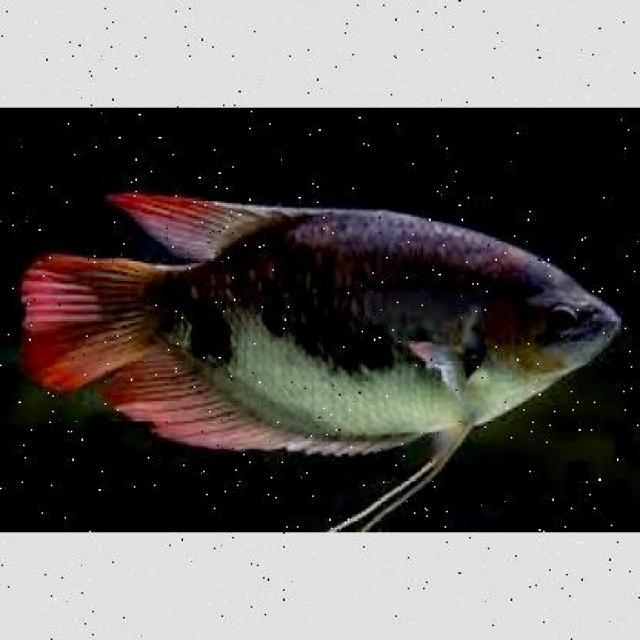gurame: (17, 190, 623, 453)
